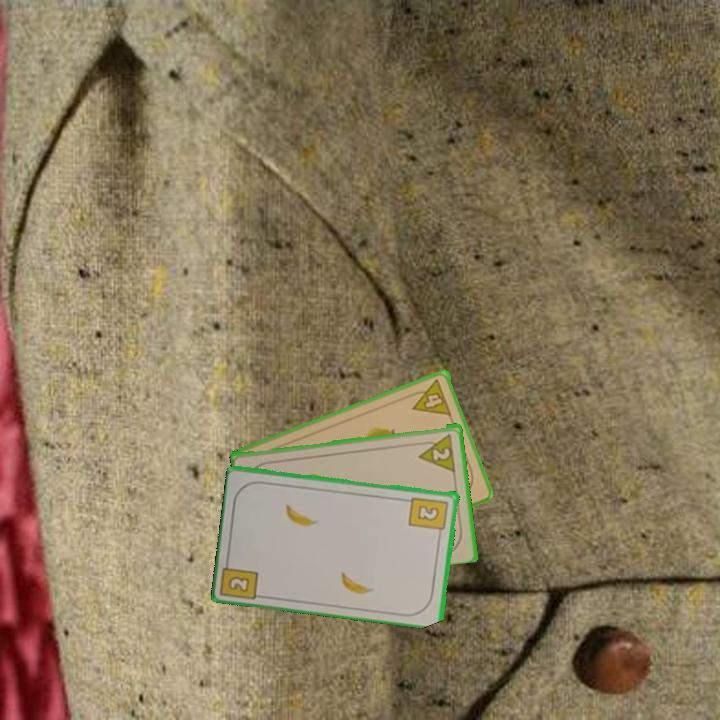2b: (219, 553, 262, 602), (406, 493, 451, 539)
2p: (429, 444, 453, 463)
4p: (405, 376, 454, 419)
